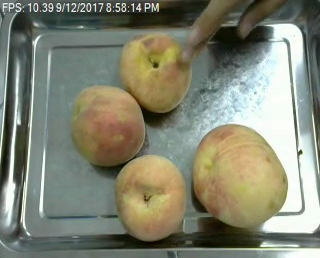Peach: (193, 121, 288, 231), (113, 155, 188, 242), (69, 84, 145, 168), (117, 31, 190, 113)
